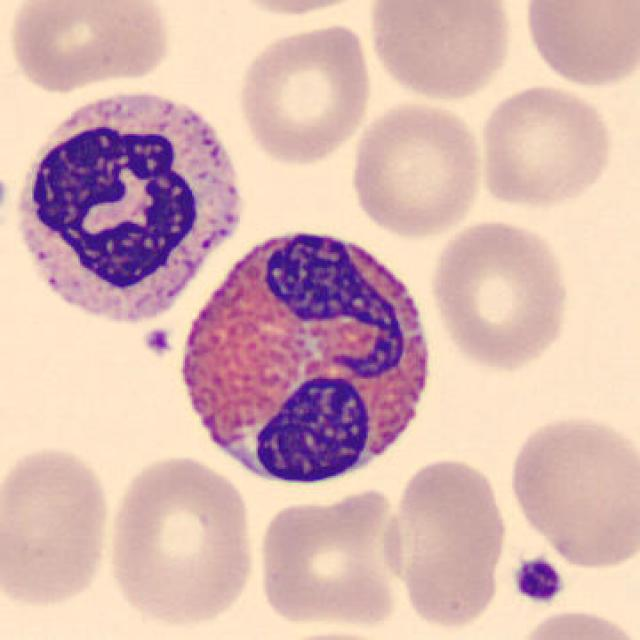Eosinophil: (167, 210, 446, 497)
Neutrophil: (0, 78, 251, 340)
Platelets: (510, 556, 567, 606), (139, 319, 180, 363)
RBC: (102, 450, 260, 631), (427, 215, 574, 374), (379, 453, 512, 628), (253, 485, 407, 629), (503, 409, 638, 571), (233, 18, 377, 168), (0, 439, 117, 612), (347, 97, 487, 240), (474, 81, 618, 212), (364, 0, 518, 104), (1, 0, 172, 93), (518, 0, 638, 92), (508, 604, 638, 640), (220, 0, 378, 19)
